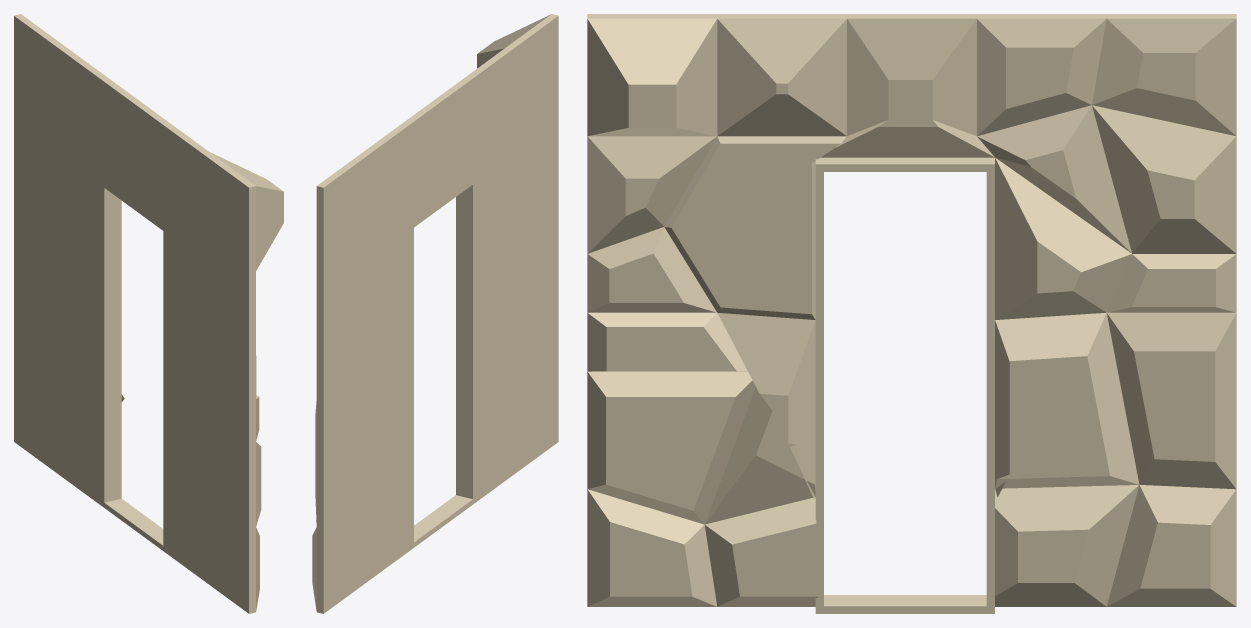
File: wall_door_rocky.glb
3 views of the same model, side by side, from view 1: azimuth 30°, elevation 25°; view 2: azimuth 150°, elevation 25°; view 3: azimuth 270°, elevation 25° (orthographic). The views are drawn at different scales.
Parts seen in each view (by area): view 1: Cube; view 2: Cube; view 3: Cube.
Boxes of the visible parts, bbox=[...] form: Cube: bbox=[14, 14, 283, 613]; Cube: bbox=[312, 14, 558, 613]; Cube: bbox=[587, 14, 1236, 613].
Bounding box in the file's own units: 0.8835 × 7.24 × 7.23.
